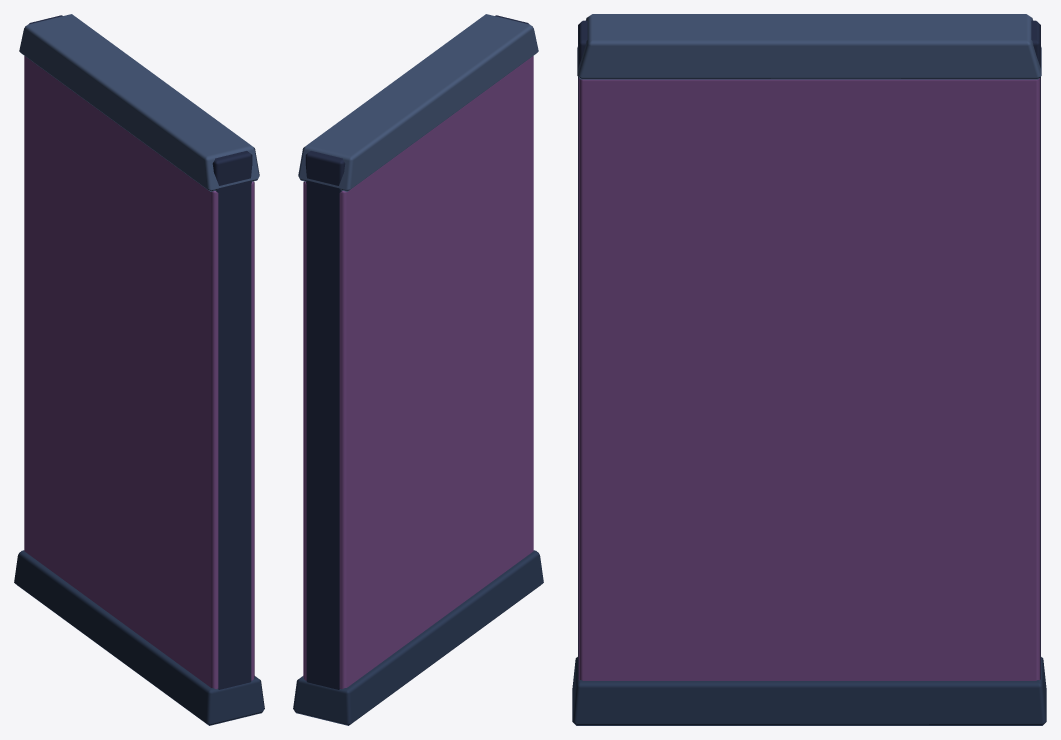
Rendered from wall_violet_34_420_260.glb.
3 renders of one model, left to right at view 1: azimuth 30°, elevation 25°; view 2: azimuth 150°, elevation 25°; view 3: azimuth 270°, elevation 25°, orthographic. The views are drawn at different scales.
Visible parts, largest first — view 1: wall_violet_34_420_260; view 2: wall_violet_34_420_260; view 3: wall_violet_34_420_260.
Part boxes in pixels (x1,y1,x2,y2): wall_violet_34_420_260: (14,14,264,725); wall_violet_34_420_260: (293,14,543,725); wall_violet_34_420_260: (572,14,1046,725).
Bounding box in the file's own units: 0.4582 × 4.2 × 2.64.
